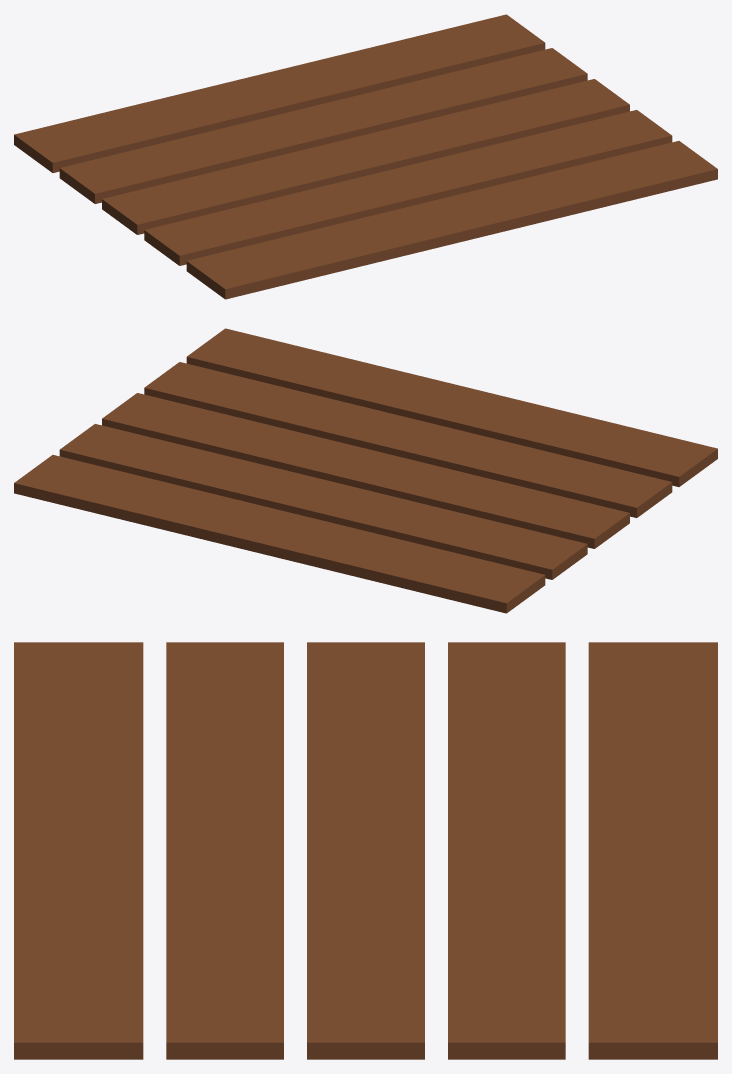
File: Shelf_06_Shelf_02.glb
The picture shows the model from 3 angles, top to bottom: view 1: azimuth 30°, elevation 25°; view 2: azimuth 150°, elevation 25°; view 3: azimuth 270°, elevation 25°; orthographic projection. The views are drawn at different scales.
Visible parts, largest first — view 1: Mesh_Shelf_06_Shelf_02; view 2: Mesh_Shelf_06_Shelf_02; view 3: Mesh_Shelf_06_Shelf_02.
Part boxes in pixels (x1,y1,x2,y2): Mesh_Shelf_06_Shelf_02: (14,14,717,299); Mesh_Shelf_06_Shelf_02: (14,328,717,613); Mesh_Shelf_06_Shelf_02: (14,642,717,1059).
Bounding box in the file's own units: 1 × 0.02 × 0.7431.
Materials: 1 (1 with a texture image).
